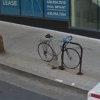Bicycle: (30, 26, 83, 73)
